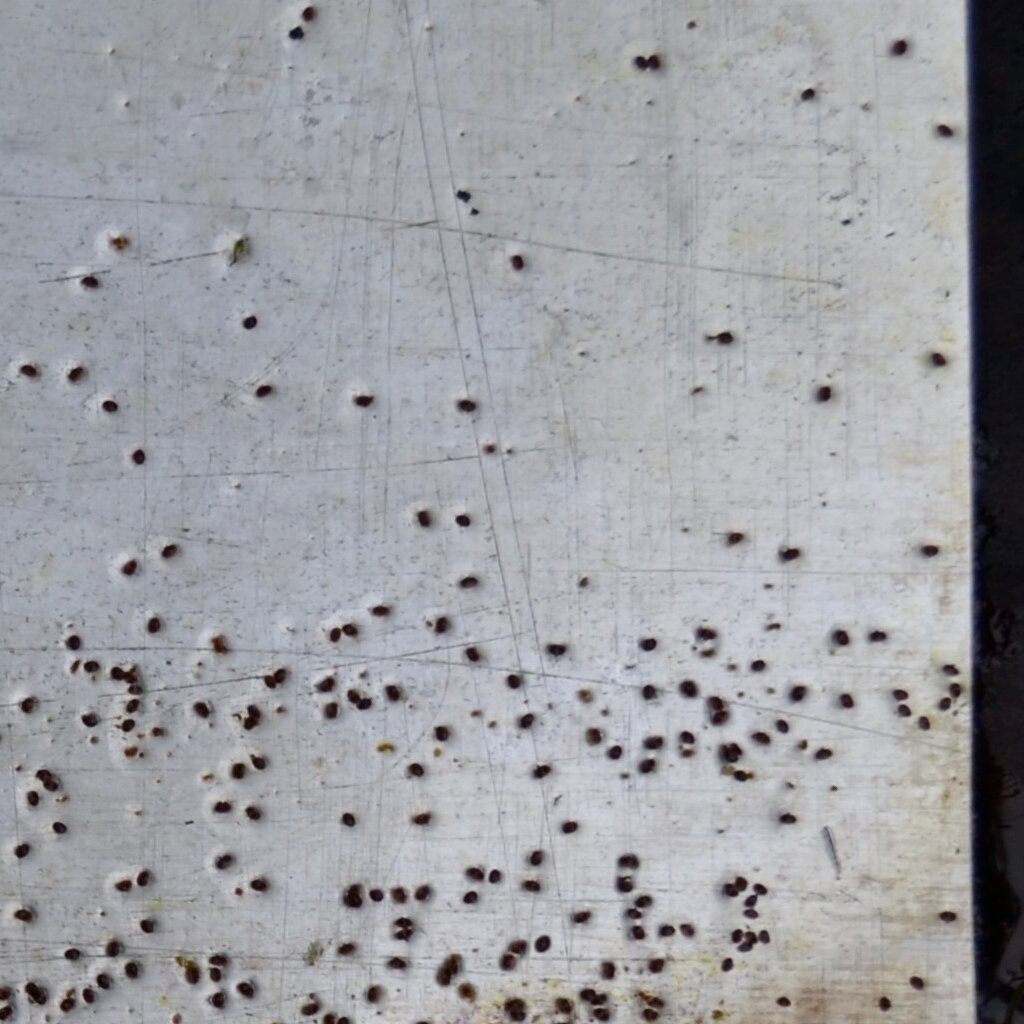varroe: (705, 689, 733, 711), (79, 266, 101, 292), (214, 849, 238, 872), (463, 642, 485, 667), (530, 756, 552, 781), (676, 677, 699, 700), (778, 542, 800, 566), (615, 850, 639, 872), (503, 991, 527, 1013), (457, 978, 478, 1003), (507, 932, 529, 955), (554, 992, 575, 1016), (583, 723, 601, 750), (637, 755, 659, 777), (235, 978, 256, 1001), (463, 865, 486, 886), (613, 874, 637, 894), (315, 671, 337, 692), (456, 574, 479, 594), (749, 726, 772, 746), (647, 952, 667, 975), (498, 952, 518, 975), (830, 624, 849, 648), (727, 528, 745, 553), (706, 710, 732, 727), (94, 970, 115, 991), (638, 633, 658, 655), (641, 731, 663, 751), (335, 935, 355, 957), (432, 615, 450, 639), (534, 930, 551, 955), (79, 709, 100, 729), (228, 760, 248, 781), (546, 638, 567, 658), (207, 948, 228, 968), (634, 890, 655, 910), (572, 906, 593, 926), (67, 363, 86, 385), (695, 624, 717, 643), (677, 918, 696, 940), (934, 121, 957, 139), (644, 992, 667, 1010), (929, 348, 946, 372), (641, 680, 658, 704), (391, 927, 418, 942), (191, 699, 211, 719), (813, 744, 834, 763), (788, 684, 807, 705), (12, 906, 34, 924), (921, 540, 939, 562), (385, 952, 407, 970), (365, 982, 382, 1005), (486, 861, 502, 885), (391, 913, 415, 929), (457, 396, 477, 415), (113, 877, 132, 897), (938, 906, 958, 925), (207, 990, 227, 1009), (891, 36, 909, 57), (509, 248, 523, 275), (20, 694, 38, 715), (414, 881, 431, 903), (392, 884, 409, 906), (415, 507, 431, 530), (877, 992, 893, 1015), (185, 963, 201, 986), (731, 766, 750, 785), (461, 888, 480, 907), (354, 391, 374, 409), (816, 382, 831, 406), (244, 803, 262, 823), (123, 960, 141, 980), (868, 628, 888, 646), (605, 742, 623, 762), (436, 964, 451, 988), (367, 886, 387, 904), (65, 630, 82, 651), (412, 810, 433, 827), (104, 938, 121, 959), (838, 689, 854, 711), (601, 959, 617, 981), (937, 691, 952, 714), (639, 1008, 662, 1023), (120, 557, 137, 577), (13, 839, 30, 859), (250, 751, 267, 771), (518, 710, 535, 730), (940, 657, 957, 677), (625, 904, 645, 921), (522, 878, 542, 895), (444, 955, 461, 975), (343, 880, 363, 897), (162, 541, 178, 562), (211, 798, 232, 814), (775, 989, 791, 1010), (734, 874, 750, 895), (339, 895, 364, 908), (111, 232, 129, 250), (383, 684, 401, 702), (408, 760, 426, 778), (749, 658, 767, 676), (720, 745, 738, 763), (907, 973, 926, 990), (659, 919, 676, 938), (300, 999, 319, 1016), (918, 711, 932, 734), (242, 312, 258, 332), (146, 615, 162, 635), (345, 686, 361, 706), (720, 953, 736, 973), (529, 849, 545, 869), (131, 446, 146, 467), (508, 1007, 529, 1022), (895, 702, 913, 719), (561, 818, 579, 835), (628, 923, 646, 940), (340, 809, 356, 828), (592, 1007, 611, 1023), (633, 52, 646, 75), (647, 53, 660, 76), (21, 361, 38, 378), (59, 995, 76, 1012), (288, 23, 304, 41), (299, 5, 317, 21), (799, 86, 817, 102), (453, 511, 471, 527), (110, 664, 126, 682), (323, 702, 339, 720), (753, 880, 771, 896), (724, 881, 740, 899), (273, 662, 286, 684), (125, 664, 140, 683), (136, 869, 151, 888), (355, 697, 374, 712), (506, 671, 521, 690), (435, 723, 450, 742), (253, 383, 273, 397), (97, 973, 111, 993), (730, 926, 744, 946), (125, 697, 141, 714), (137, 917, 154, 933), (774, 717, 790, 734), (679, 728, 696, 744), (717, 328, 732, 346), (63, 945, 81, 960), (891, 686, 909, 701), (778, 810, 796, 825), (580, 985, 595, 1003), (250, 878, 269, 892), (102, 398, 118, 414), (207, 967, 223, 983), (50, 820, 67, 835), (742, 892, 759, 907), (591, 992, 609, 1006), (742, 907, 761, 920), (758, 927, 771, 946), (43, 780, 59, 795), (246, 702, 262, 717), (330, 626, 342, 646), (742, 928, 757, 944), (83, 661, 100, 675), (119, 718, 136, 732), (262, 672, 276, 689), (371, 603, 388, 617), (26, 789, 39, 807), (37, 767, 52, 782), (123, 742, 137, 758), (244, 716, 260, 730), (342, 622, 356, 638), (82, 988, 96, 1004), (729, 740, 743, 756), (0, 1005, 13, 1022), (949, 681, 961, 699), (0, 985, 13, 1001), (32, 992, 47, 1005), (25, 983, 40, 995), (127, 685, 142, 696), (738, 942, 754, 952), (324, 1009, 335, 1023), (337, 1014, 351, 1023)
